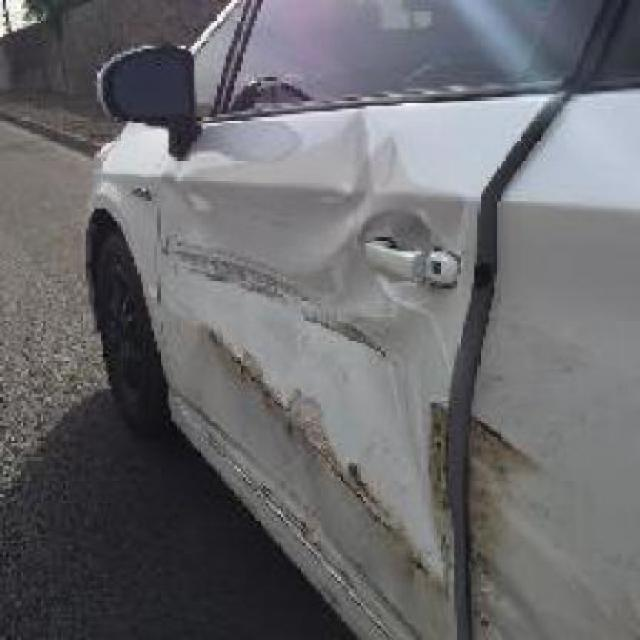damaged-door: (151, 0, 580, 637)
